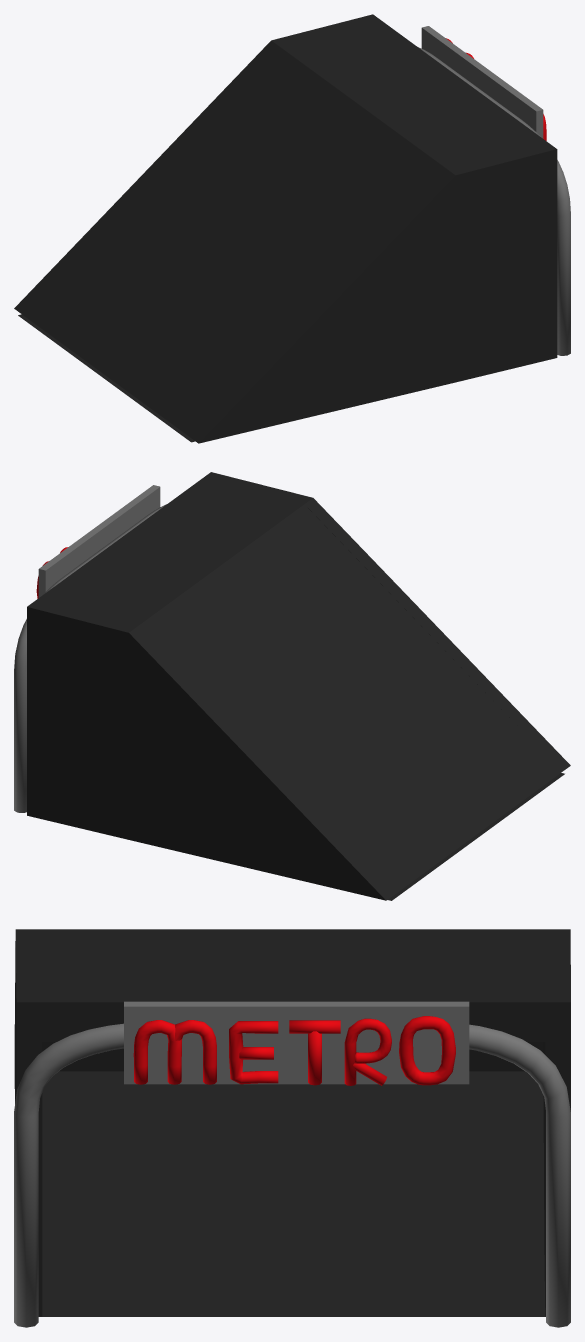
Rendered from Metro_Entrance.fbx.
The picture shows the model from 3 angles, top to bottom: view 1: azimuth 30°, elevation 25°; view 2: azimuth 150°, elevation 25°; view 3: azimuth 270°, elevation 25°; orthographic projection. The views are drawn at different scales.
Parts seen in each view (by area): view 1: Plane; view 2: Plane; view 3: Plane.
Boxes of the visible parts, x1,y1,x2,y2 form: Plane: [14, 14, 570, 443]; Plane: [14, 472, 570, 900]; Plane: [14, 929, 570, 1327].
Bounding box in the file's own units: 771 × 409 × 631.
